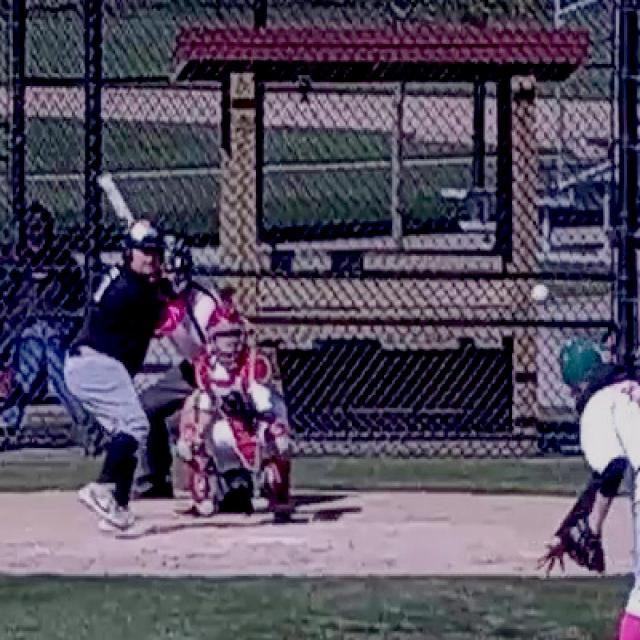baseball: (532, 286, 548, 300)
